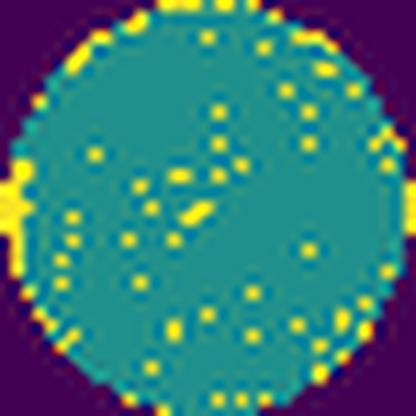Edge-Loc: (0, 155, 39, 286)
